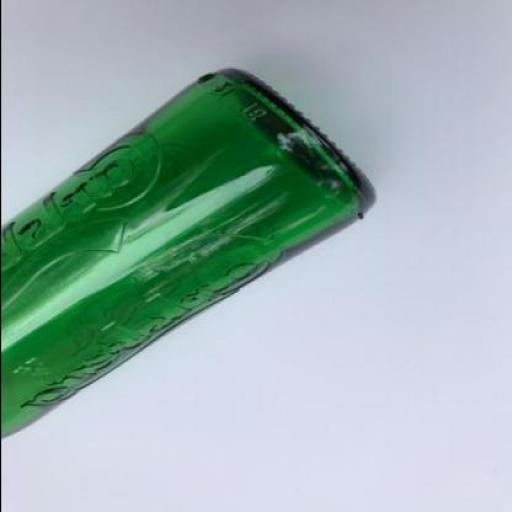glass: (2, 68, 376, 440)
